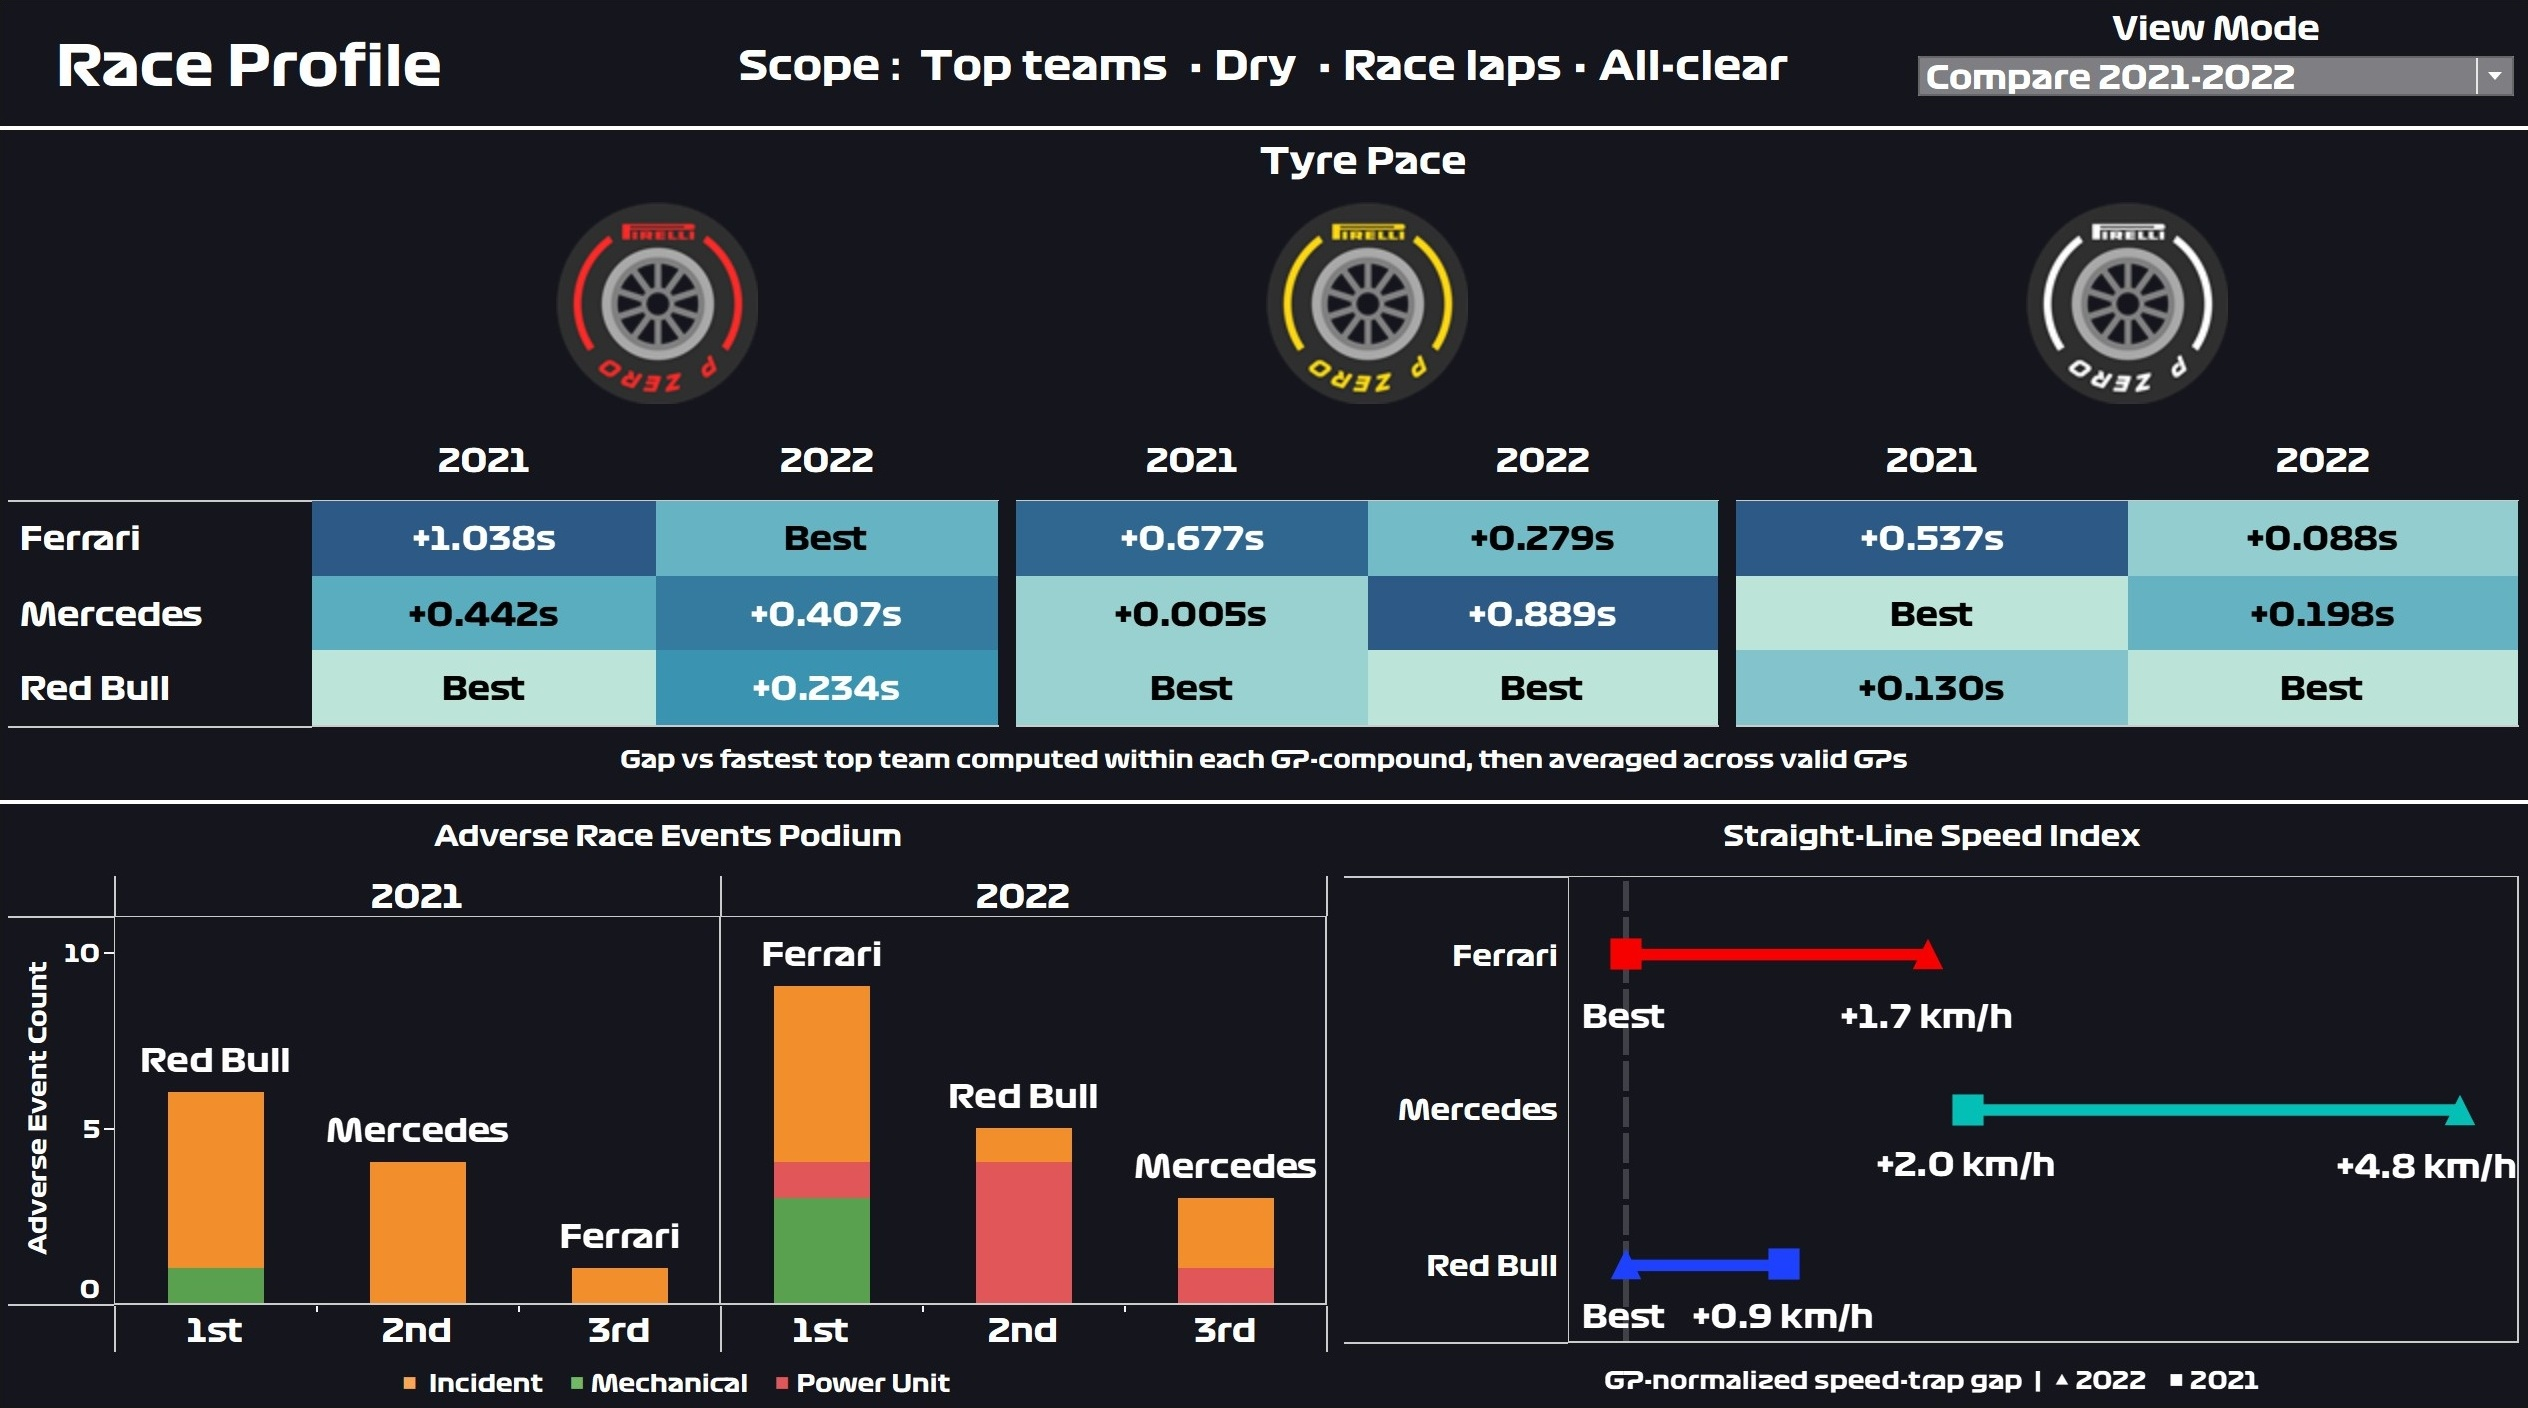

What the dashboard file says about the page in this screenshot:
{"tool":"tableau","page":{"name":"Compound & Speed","canvas":[1280,720],"ordinal":2},"visuals":[{"type":"text","box":[8,8,361,63]},{"type":"text","box":[369,8,591,63]},{"type":"parameter","param":"[Parameters].[Parameter 4]","box":[960,8,312,63]},{"type":"text","box":[8,73,1264,23]},{"type":"blank","box":[8,98,153,109]},{"type":"image","param":"Image/soft_tyre.png","box":[161,98,351,109]},{"type":"image","param":"Image/medium_tyre.png","box":[512,98,360,109]},{"type":"image","param":"Image/hard_tyre.png","box":[872,98,400,109]},{"type":"worksheet","title":"Tyre Pace — Soft","mark":"Square","rows":["team_name"],"cols":["season_year"],"box":[8,207,504,162]},{"type":"worksheet","title":"Tyre Pace — Medium","mark":"Square","rows":["team_name"],"cols":["season_year"],"box":[512,207,360,162]},{"type":"worksheet","title":"Tyre Pace — Hard","mark":"Square","rows":["team_name"],"cols":["season_year"],"box":[872,207,400,162]},{"type":"text","box":[8,369,1264,18]},{"type":"worksheet","title":"Adverse Race Events Podium","mark":"Text","rows":["Calculation_3198775210897408","Calculation_1434608050249745"],"cols":["season_year"],"box":[8,403,668,309]},{"type":"worksheet","title":"Straight-Line Speed Index","mark":"Line","rows":["team_name"],"box":[676,403,596,281]},{"type":"worksheet","title":"Speed Shape Legend","mark":"Automatic","box":[676,684,596,28]}]}

Visuals, with their boxes in screenshot pixels (x1, y1, x2, y2), scaled from the page's 1280x720 canvas onto the 2528x1408 screenshot:
text: 16, 16, 729, 139
text: 729, 16, 1896, 139
parameter: 1896, 16, 2512, 139
text: 16, 143, 2512, 188
blank: 16, 192, 318, 405
image: 318, 192, 1011, 405
image: 1011, 192, 1722, 405
image: 1722, 192, 2512, 405
"Tyre Pace — Soft" worksheet (Square marks): 16, 405, 1011, 722
"Tyre Pace — Medium" worksheet (Square marks): 1011, 405, 1722, 722
"Tyre Pace — Hard" worksheet (Square marks): 1722, 405, 2512, 722
text: 16, 722, 2512, 757
"Adverse Race Events Podium" worksheet (Text marks): 16, 788, 1335, 1392
"Straight-Line Speed Index" worksheet (Line marks): 1335, 788, 2512, 1338
"Speed Shape Legend" worksheet: 1335, 1338, 2512, 1392
